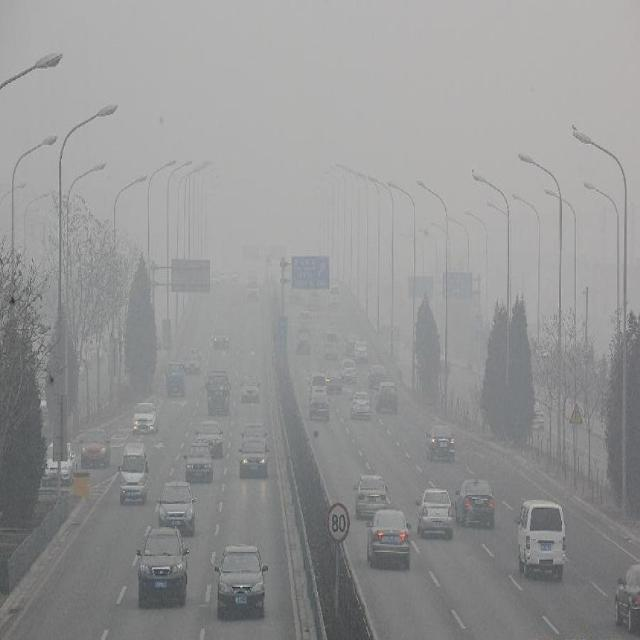bus: (206, 371, 232, 414), (164, 359, 187, 399)
car: (134, 527, 190, 605), (518, 500, 566, 582), (214, 544, 267, 617), (366, 508, 410, 569), (156, 481, 197, 535), (417, 487, 454, 539), (456, 480, 496, 528), (613, 561, 639, 631), (119, 438, 148, 496), (354, 474, 388, 522), (43, 439, 72, 485), (76, 428, 109, 468), (426, 424, 456, 461), (240, 436, 267, 473), (184, 450, 213, 483), (132, 402, 157, 434), (199, 421, 221, 452), (375, 381, 395, 411), (350, 388, 369, 418), (309, 394, 330, 420), (240, 376, 260, 403), (241, 424, 267, 444), (310, 370, 325, 400), (296, 328, 310, 355), (212, 329, 230, 350), (341, 360, 356, 384), (185, 349, 199, 373), (328, 373, 342, 395), (328, 285, 342, 307)
